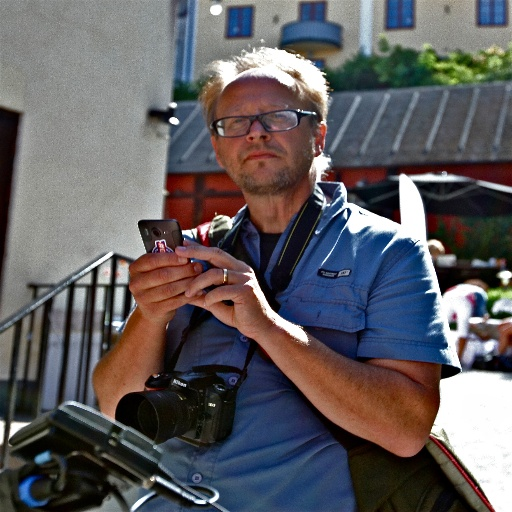hand: (125, 237, 203, 321)
